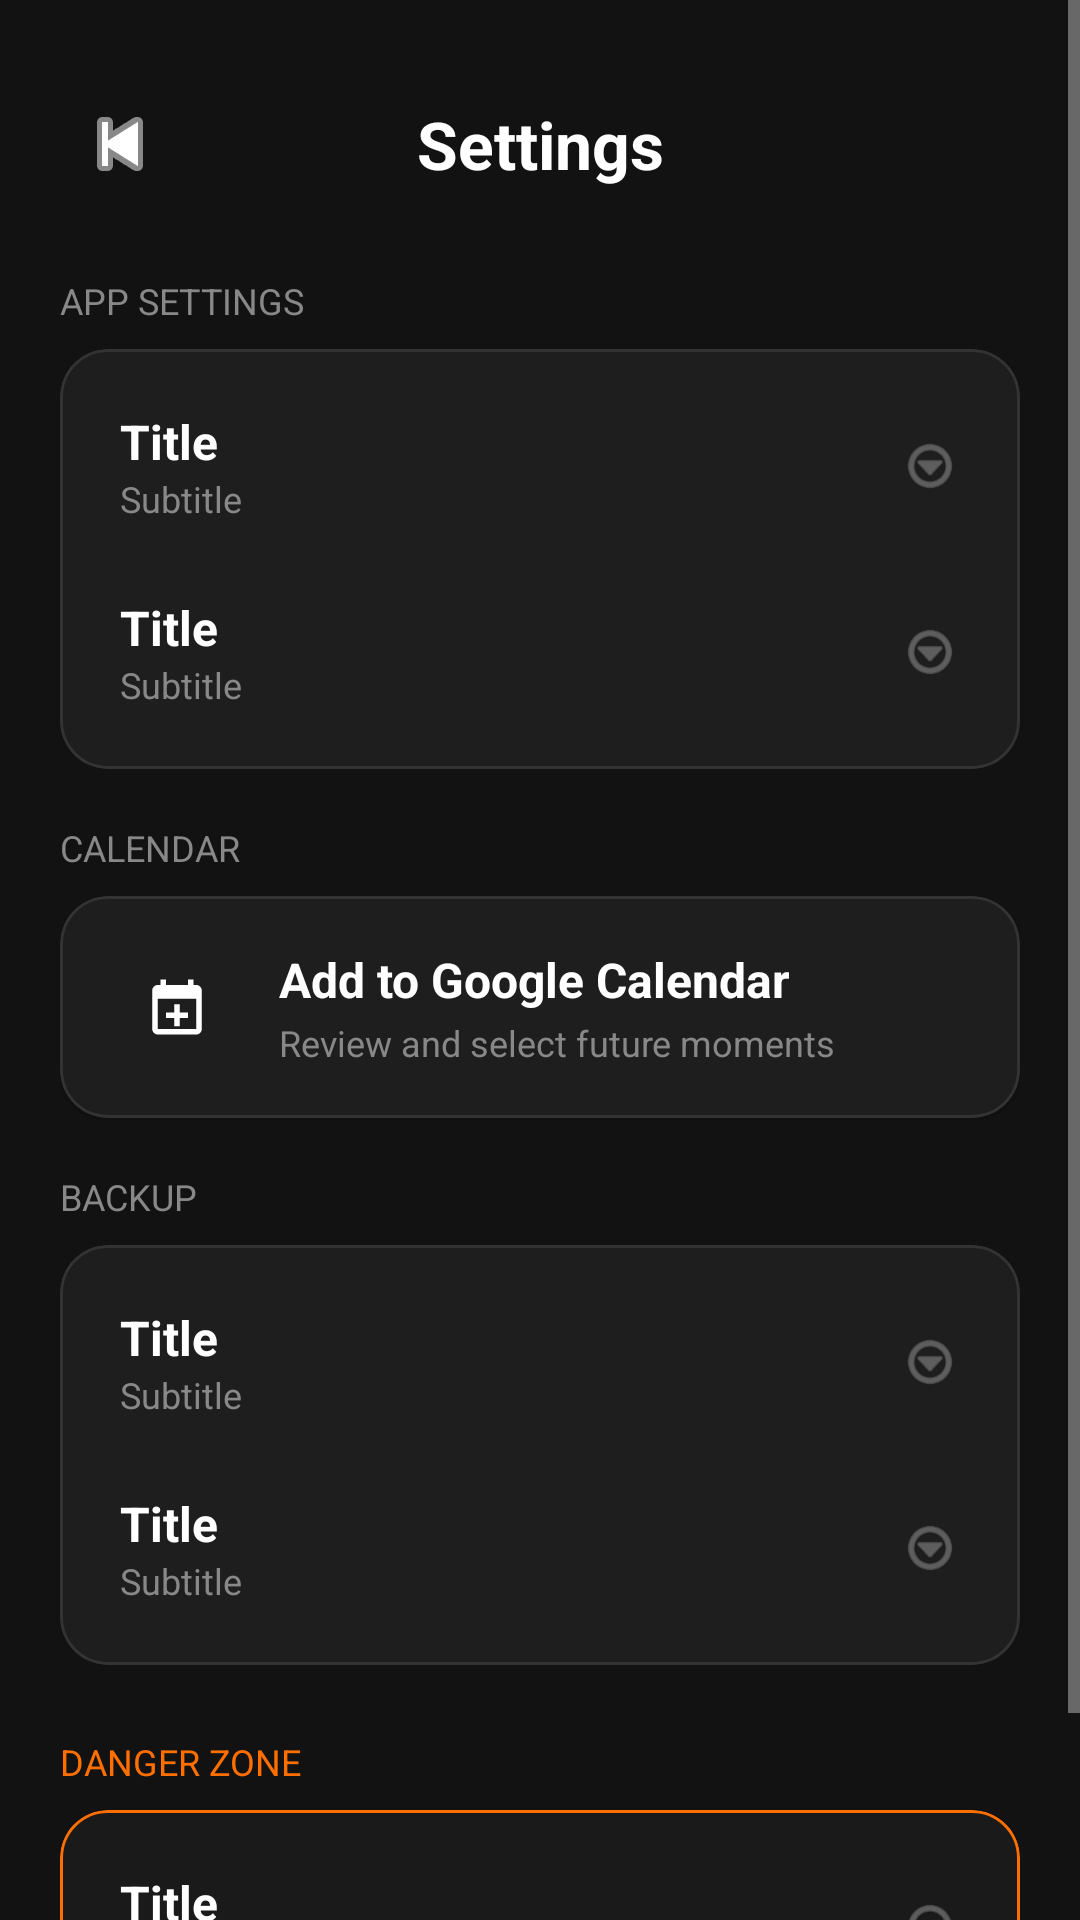

Screen size 1080w x 1920h. Icon name, then its center in pixels as (x,y):
Back: (120,144)
